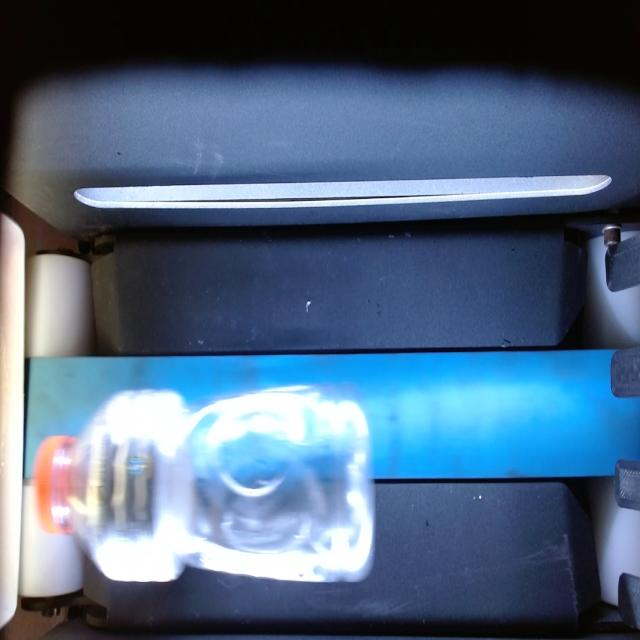bottom: (188, 387, 374, 582)
label: (94, 393, 164, 581)
neck: (51, 438, 90, 533)
